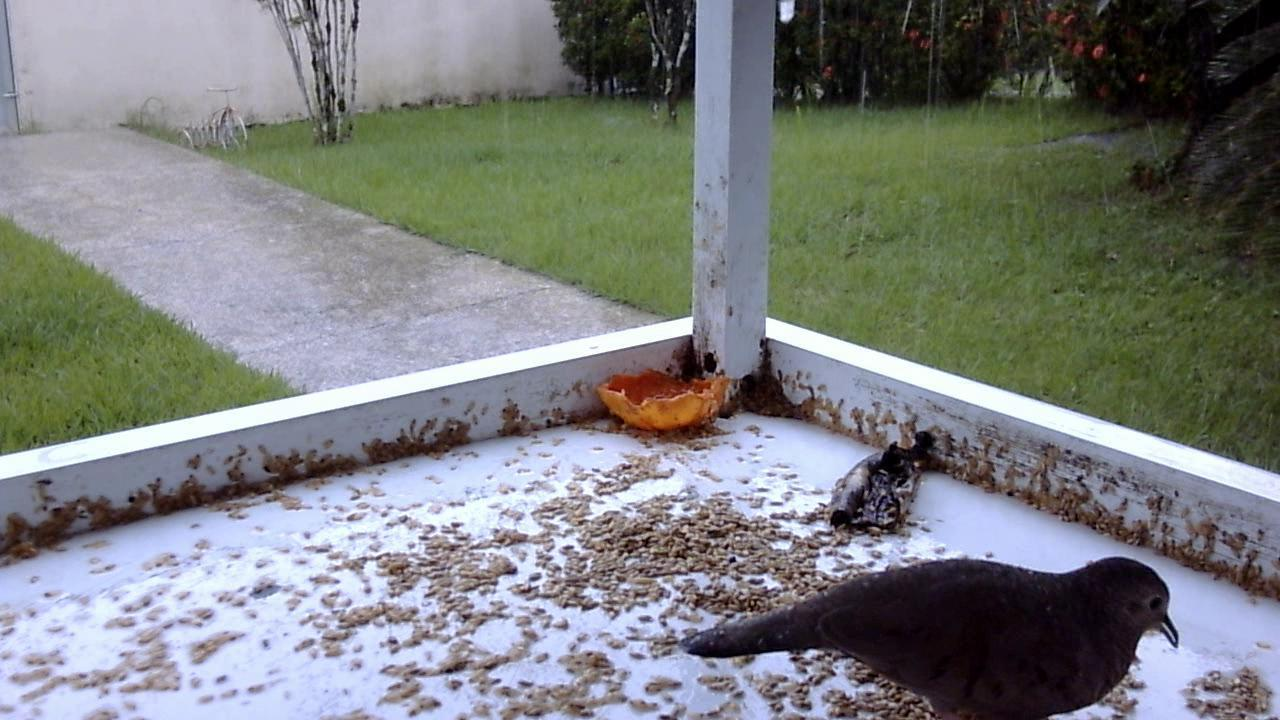rolinha: (671, 530, 1199, 718)
